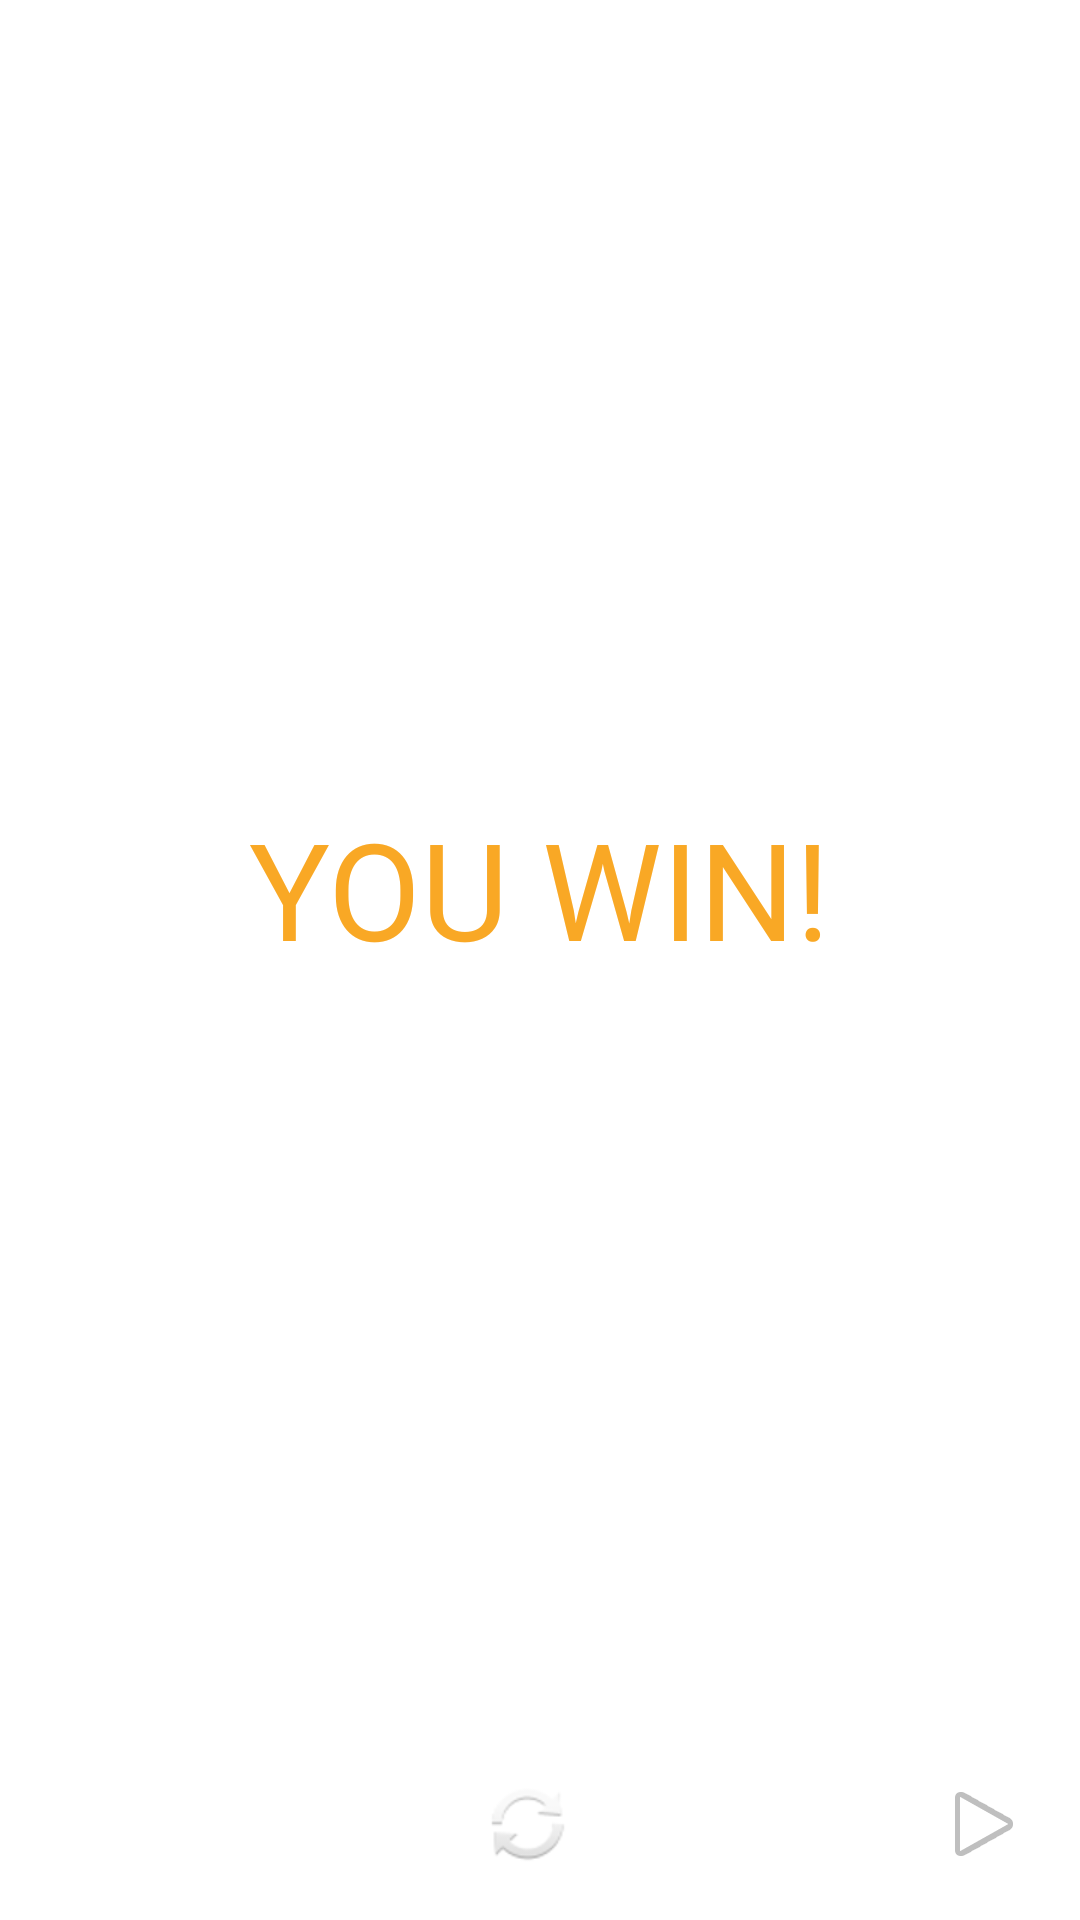

Named icons in this screenshot (1080px×1920px) and their centers, (x=x, y=y):
play: (x=984, y=1824)
popup sync: (x=527, y=1828)
